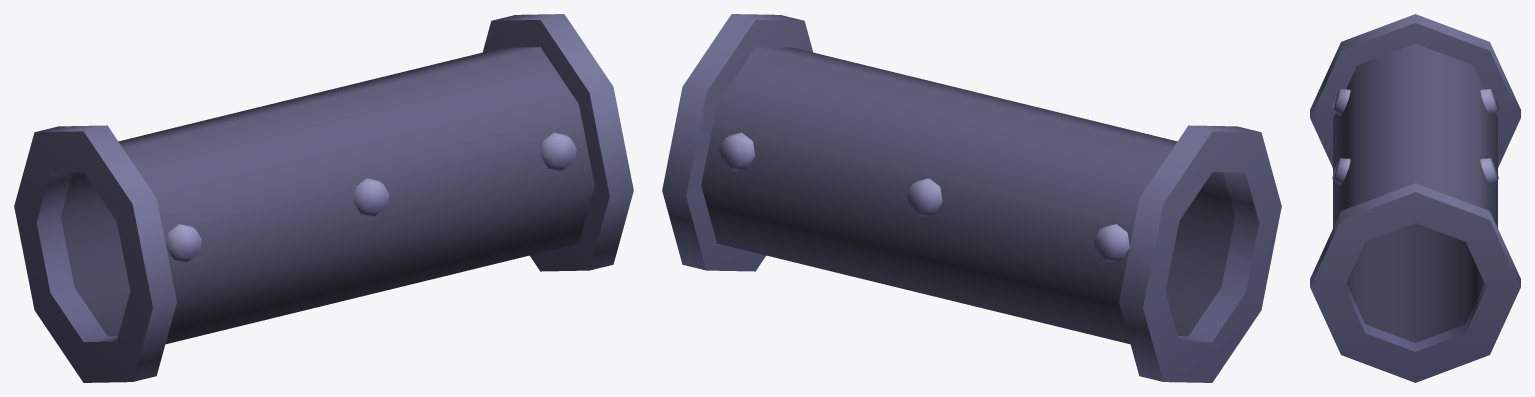
The model's file is pipe-large-long.glb.
3 renders of one model, left to right at view 1: azimuth 30°, elevation 25°; view 2: azimuth 150°, elevation 25°; view 3: azimuth 270°, elevation 25°, orthographic. The views are drawn at different scales.
Parts seen in each view (by area): view 1: pipe-large-long; view 2: pipe-large-long; view 3: pipe-large-long.
Boxes of the visible parts, left/top/right/bottom form: pipe-large-long: left=14, top=14, right=633, bottom=382; pipe-large-long: left=662, top=14, right=1281, bottom=382; pipe-large-long: left=1310, top=14, right=1520, bottom=382.
Bounding box in the file's own units: 2 × 1 × 1.
Materials: 1 (1 with a texture image).
